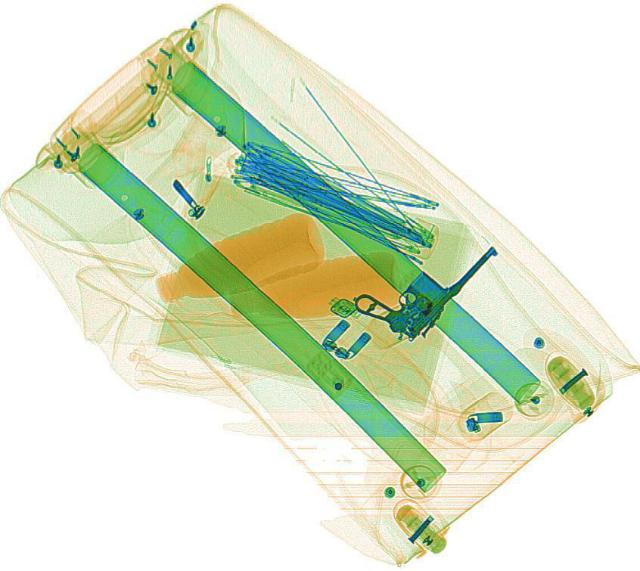Gun: (347, 208, 499, 343)
